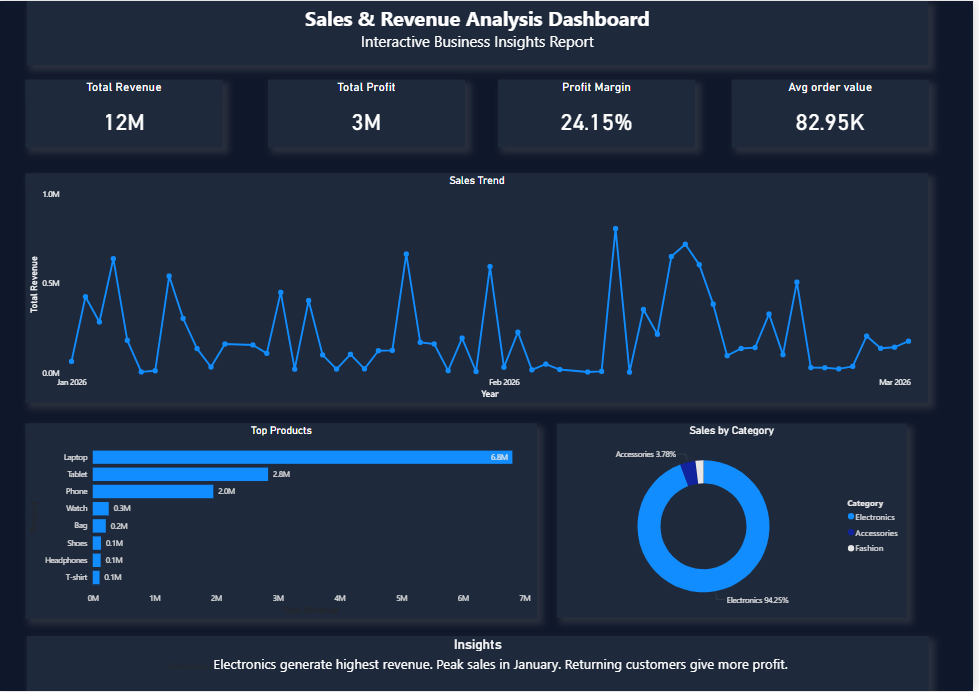

Layout of this report page (visuals, bound fields, positions):
{"tool":"powerbi","page":{"name":"Page 1","canvas":[1560,1105],"ordinal":0},"visuals":[{"type":"card","title":"Total Revenue","fields":{"Values":["Sum(SalesData.Revenue)"]},"box":[43.3,125,315,108.3],"z":0},{"type":"card","title":"Total Profit","fields":{"Values":["SalesData.Total Profit"]},"box":[431.7,125,315,108.3],"z":1000},{"type":"card","title":"Profit Margin","fields":{"Values":["SalesData.Profit Margin"]},"box":[800,125,315,108.3],"z":2000},{"type":"card","title":"Avg order value","fields":{"Values":["SalesData.Avg Order Value"]},"box":[1173.3,125,315,108.3],"z":3000},{"type":"clusteredBarChart","title":"Top Products","fields":{"Y":["SalesData.Total Revenue"],"Category":["SalesData.Product"]},"box":[43.3,675,818.3,311.7],"z":5000},{"type":"donutChart","title":"Sales by Category","fields":{"Category":["SalesData.Category"],"Y":["SalesData.Total Revenue"]},"box":[894,676,560,310],"z":6000},{"type":"lineChart","title":"Sales Trend","fields":{"Y":["SalesData.Total Revenue"],"Category":["SalesData.Date.Variation.Date Hierarchy.Year","SalesData.Date.Variation.Date Hierarchy.Quarter","SalesData.Date.Variation.Date Hierarchy.Month","SalesData.Date.Variation.Date Hierarchy.Day"]},"box":[44,276,1444,366],"z":6001},{"type":"textbox","title":"Insights","box":[45,1015,1443.3,90],"z":6003},{"type":"textbox","box":[46,0,1442,102],"z":6004}]}

Visuals, with their boxes in screenshot pixels (x1, y1, x2, y2), scaled from the page's 1560x1105 canvas onto the 979x692 screenshot:
"Total Revenue" card: x1=27, y1=78, x2=225, y2=146
"Total Profit" card: x1=271, y1=78, x2=469, y2=146
"Profit Margin" card: x1=502, y1=78, x2=700, y2=146
"Avg order value" card: x1=736, y1=78, x2=934, y2=146
"Top Products" clusteredBarChart: x1=27, y1=423, x2=541, y2=618
"Sales by Category" donutChart: x1=561, y1=423, x2=912, y2=617
"Sales Trend" lineChart: x1=28, y1=173, x2=934, y2=402
"Insights" textbox: x1=28, y1=636, x2=934, y2=691
textbox: x1=29, y1=0, x2=934, y2=64
